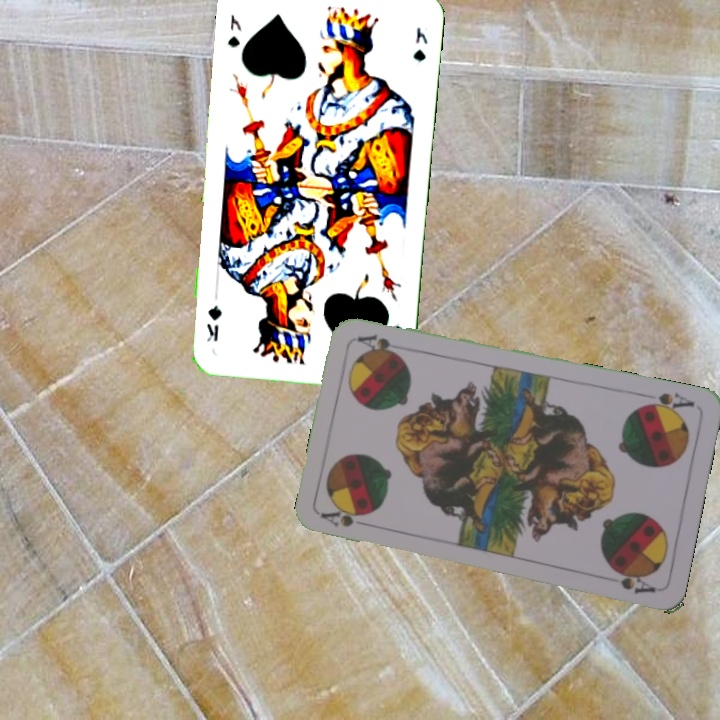GK: (223, 10, 244, 51)
SA: (637, 389, 697, 417), (318, 508, 377, 530)
